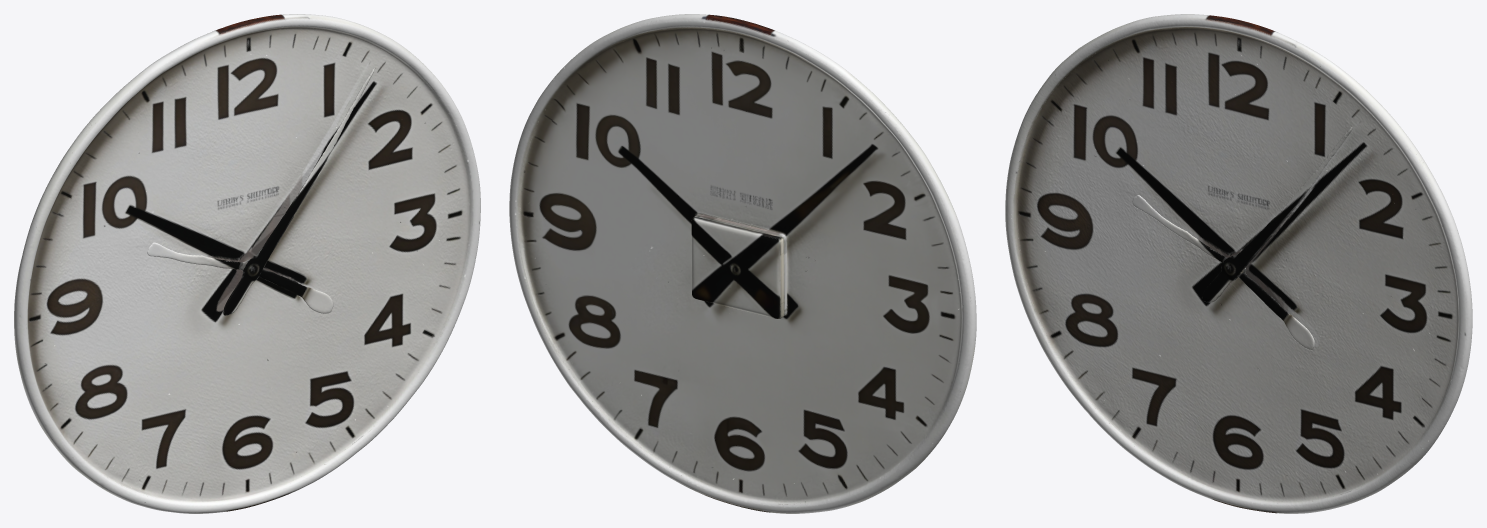
The model's file is Meshy_AI_Ten_Past_Ten_Clock_0318095455_texture.glb.
The picture shows the model from 3 angles, left to right: view 1: azimuth 30°, elevation 25°; view 2: azimuth 150°, elevation 25°; view 3: azimuth 330°, elevation 25°; orthographic projection.
Size of the model in its own units: 2 by 2 by 0.1165.
Materials: 1 (1 with a texture image).
